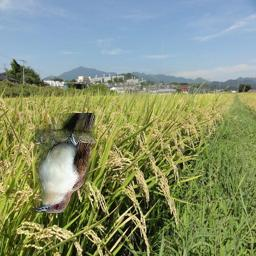Cuckoo: (35, 113, 95, 213)
